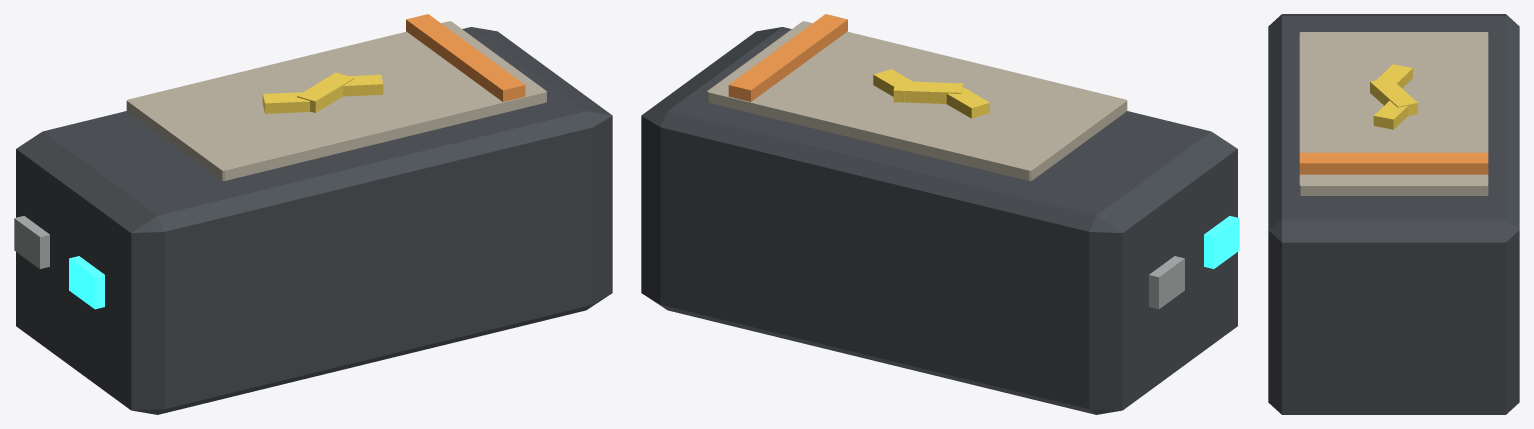
File: power_cell.glb
3 renders of one model, left to right at view 1: azimuth 30°, elevation 25°; view 2: azimuth 150°, elevation 25°; view 3: azimuth 270°, elevation 25°, orthographic. The views are drawn at different scales.
Parts seen in each view (by area): view 1: RR_PowerCell_Beveled_Rectangular_Battery_Body, RR_PowerCell_Top_Label_Decal, RR_PowerCell_Orange_Label_Band, RR_PowerCell_Front_Contact_Pad_Negative, RR_PowerCell_Front_Contact_Pad_Positive, RR_PowerCell_LightningBolt_MiddleStroke, RR_PowerCell_LightningBolt_UpperStroke, RR_PowerCell_LightningBolt_LowerStroke; view 2: RR_PowerCell_Beveled_Rectangular_Battery_Body, RR_PowerCell_Top_Label_Decal, RR_PowerCell_Orange_Label_Band, RR_PowerCell_Front_Contact_Pad_Negative, RR_PowerCell_Front_Contact_Pad_Positive, RR_PowerCell_LightningBolt_MiddleStroke, RR_PowerCell_LightningBolt_UpperStroke, RR_PowerCell_LightningBolt_LowerStroke; view 3: RR_PowerCell_Beveled_Rectangular_Battery_Body, RR_PowerCell_Top_Label_Decal, RR_PowerCell_Orange_Label_Band, RR_PowerCell_LightningBolt_MiddleStroke, RR_PowerCell_LightningBolt_LowerStroke, RR_PowerCell_LightningBolt_UpperStroke.
Part boxes in pixels (x1,y1,x2,y2): RR_PowerCell_Beveled_Rectangular_Battery_Body: (16,27,612,414); RR_PowerCell_Top_Label_Decal: (126,21,546,180); RR_PowerCell_Orange_Label_Band: (406,14,525,101); RR_PowerCell_Front_Contact_Pad_Negative: (14,216,49,268); RR_PowerCell_Front_Contact_Pad_Positive: (69,256,104,309); RR_PowerCell_LightningBolt_MiddleStroke: (297,72,354,112); RR_PowerCell_LightningBolt_UpperStroke: (262,92,309,113); RR_PowerCell_LightningBolt_LowerStroke: (343,74,383,96); RR_PowerCell_Beveled_Rectangular_Battery_Body: (641,27,1237,414); RR_PowerCell_Top_Label_Decal: (707,21,1127,180); RR_PowerCell_Orange_Label_Band: (728,14,847,101); RR_PowerCell_Front_Contact_Pad_Negative: (1149,256,1184,309); RR_PowerCell_Front_Contact_Pad_Positive: (1204,216,1239,268); RR_PowerCell_LightningBolt_MiddleStroke: (893,81,962,103); RR_PowerCell_LightningBolt_UpperStroke: (946,87,989,118); RR_PowerCell_LightningBolt_LowerStroke: (873,69,912,102); RR_PowerCell_Beveled_Rectangular_Battery_Body: (1268,14,1519,414); RR_PowerCell_Top_Label_Decal: (1299,32,1488,195); RR_PowerCell_Orange_Label_Band: (1299,152,1488,174); RR_PowerCell_LightningBolt_MiddleStroke: (1370,77,1417,115); RR_PowerCell_LightningBolt_LowerStroke: (1373,100,1408,129); RR_PowerCell_LightningBolt_UpperStroke: (1376,64,1412,88).
Size of the model in its own units: 0.894 by 0.395 by 0.4.
